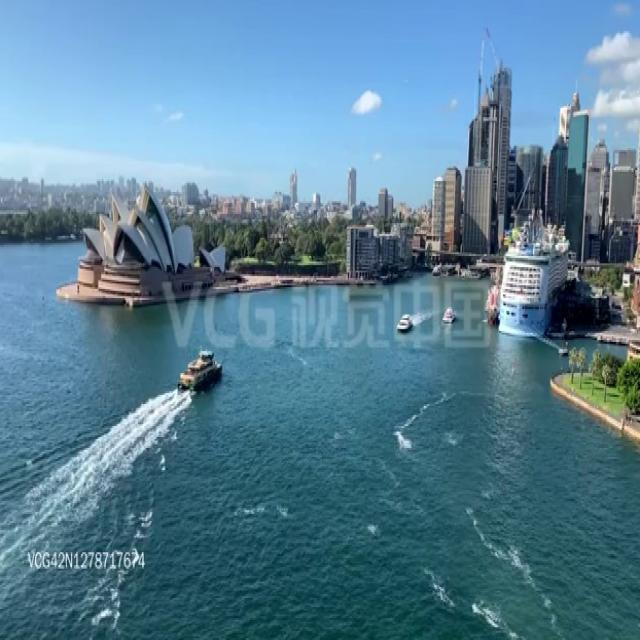houseboat: (178, 347, 222, 388), (396, 310, 413, 334), (442, 303, 456, 323)
passenger ship: (502, 218, 570, 334)
